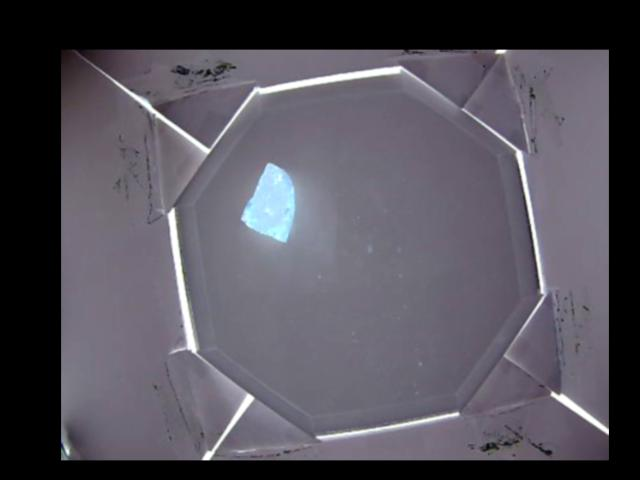Brisk: (240, 163, 293, 244)
